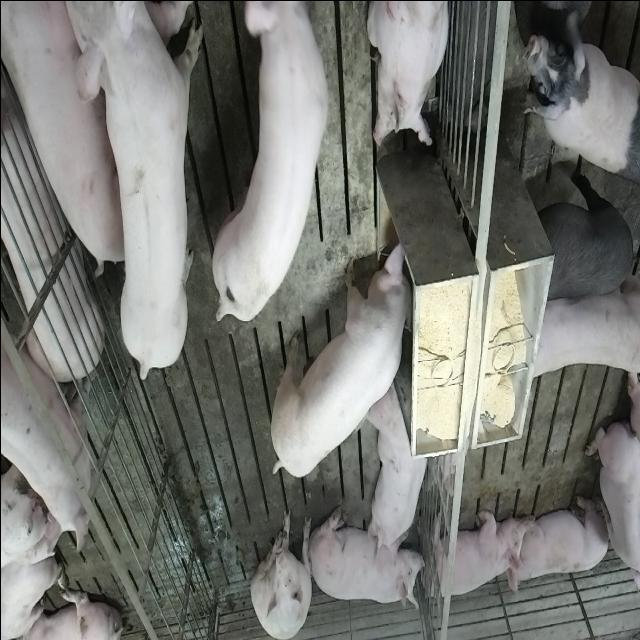Feeding: (264, 236, 410, 478)
Lateral_lying: (0, 0, 120, 271)
Sitting: (250, 506, 312, 638)
Standing: (73, 3, 202, 384), (213, 1, 333, 324), (0, 306, 89, 546), (522, 18, 638, 176), (529, 158, 636, 304), (523, 268, 637, 382)
Sternal_lying: (366, 0, 450, 149), (369, 378, 431, 563), (314, 507, 422, 611), (584, 416, 638, 605), (509, 490, 611, 590), (426, 504, 522, 602)
